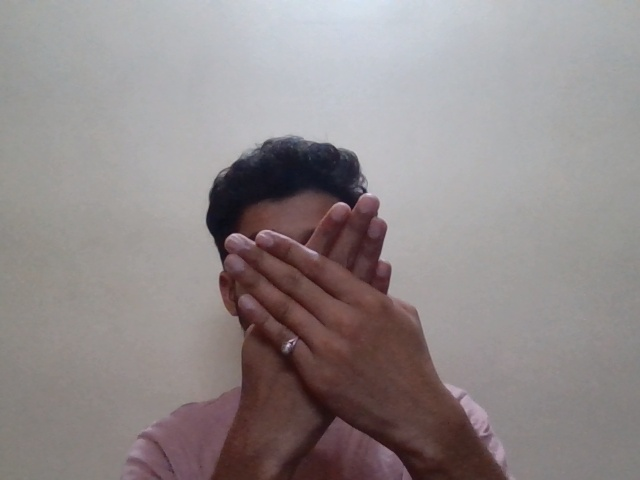what: (211, 197, 444, 378)
